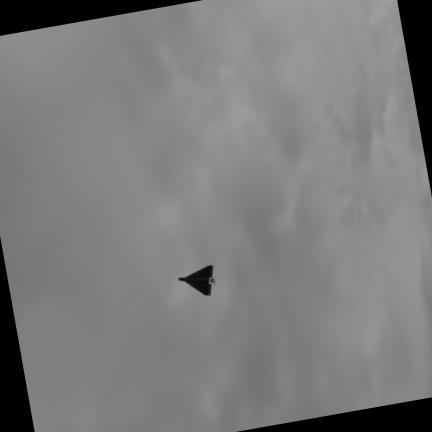Shahed: (179, 264, 215, 294)
